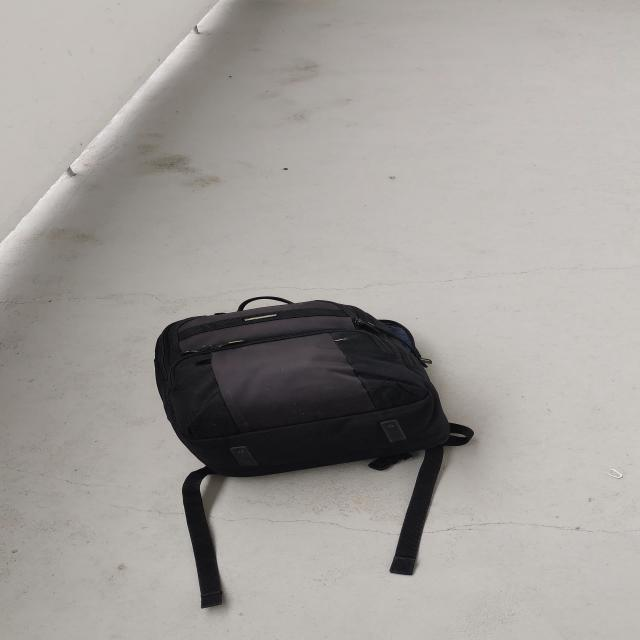backpack: (141, 292, 465, 488)
